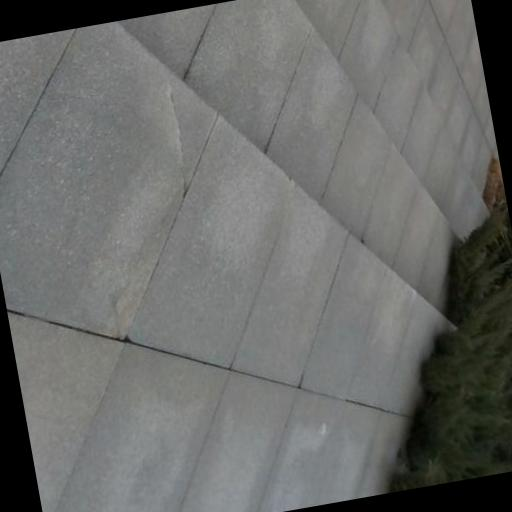stairs: (120, 0, 484, 290)
